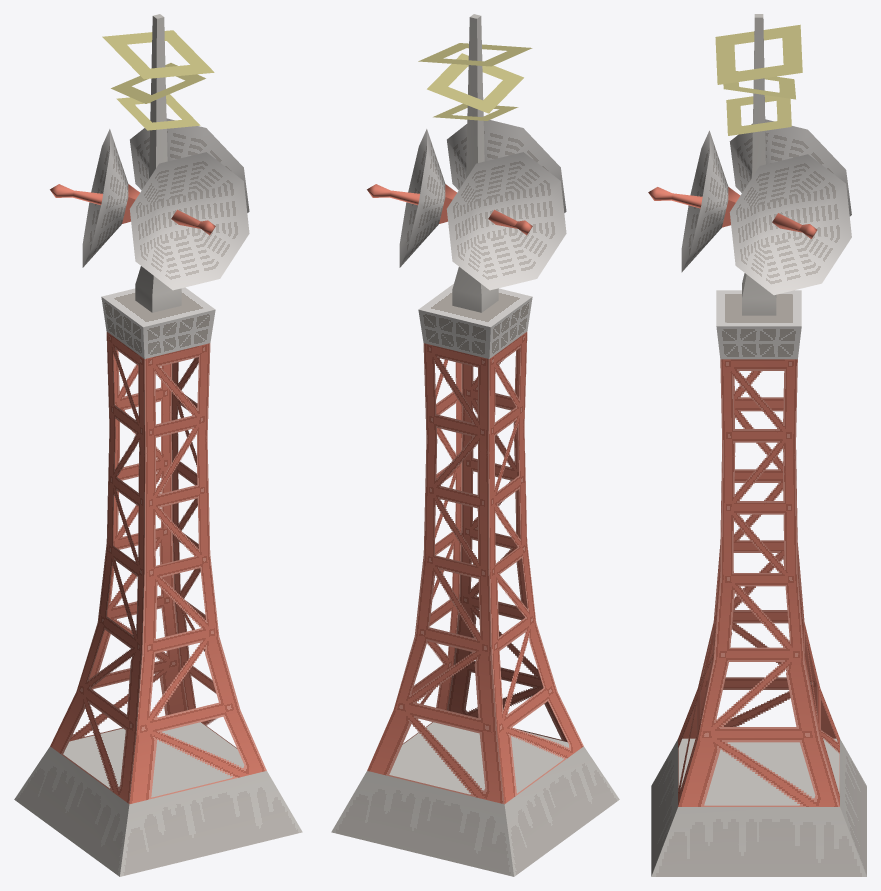
File: 00a6_Radio_Tower.glb
3 views of the same model, side by side, from view 1: azimuth 30°, elevation 25°; view 2: azimuth 150°, elevation 25°; view 3: azimuth 270°, elevation 25° (orthographic). The views are drawn at different scales.
Visible parts, largest first — view 1: part_0, part_1; view 2: part_0, part_1; view 3: part_0, part_1.
Boxes of the visible parts, x1,y1,x2,y2 form: part_0: [14, 287, 302, 876]; part_1: [50, 14, 249, 312]; part_0: [331, 284, 619, 876]; part_1: [367, 14, 566, 312]; part_0: [651, 290, 866, 876]; part_1: [648, 14, 851, 315].
Size of the model in its own units: 4.22 by 17.61 by 4.28.
1 material, 1 textured.
